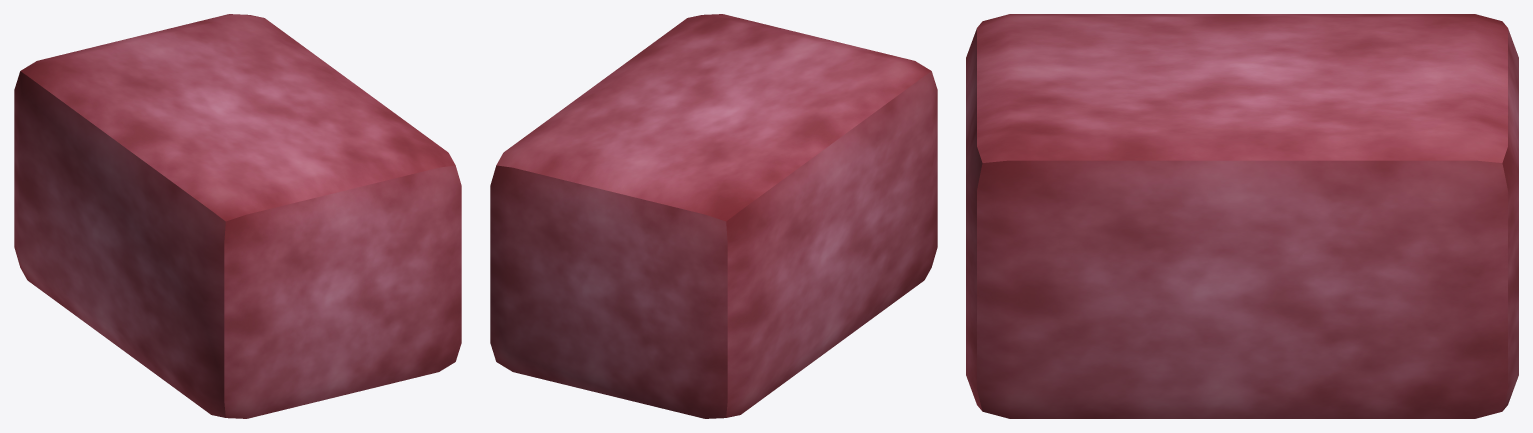
File: brick_1.fbx
3 views of the same model, side by side, from view 1: azimuth 30°, elevation 25°; view 2: azimuth 150°, elevation 25°; view 3: azimuth 270°, elevation 25° (orthographic). The views are drawn at different scales.
Visible parts, largest first — view 1: brick; view 2: brick; view 3: brick.
Boxes of the visible parts, x1=… form: brick: x1=14, y1=14, x2=461, y2=418; brick: x1=490, y1=14, x2=937, y2=418; brick: x1=966, y1=14, x2=1518, y2=418.
Size of the model in its own units: 23.62 by 19.69 by 35.43.
1 material, 1 textured.
